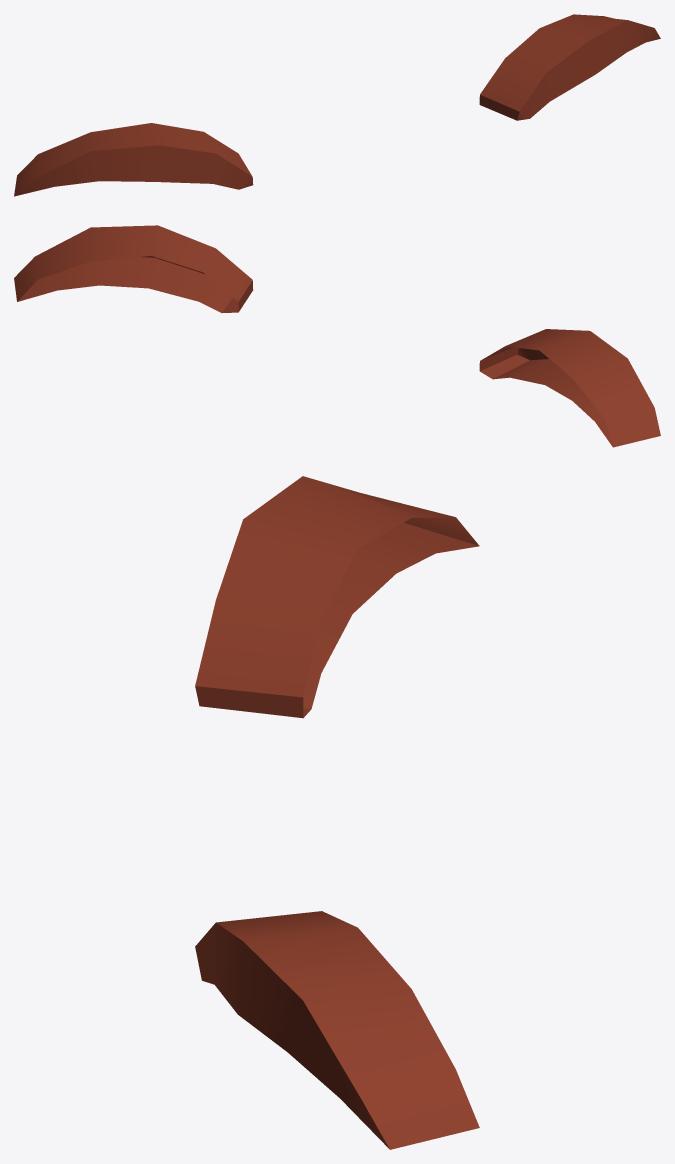
The model's file is Brow_Brown_1.fbx.
3 views of the same model, one above another, from view 1: azimuth 30°, elevation 25°; view 2: azimuth 150°, elevation 25°; view 3: azimuth 270°, elevation 25° (orthographic). The views are drawn at different scales.
Visible parts, largest first — view 1: Brow_Brown_1; view 2: Brow_Brown_1; view 3: Brow_Brown_1.
Part boxes in pixels (bbox=[...]): Brow_Brown_1: bbox=[14, 14, 660, 196]; Brow_Brown_1: bbox=[14, 225, 660, 447]; Brow_Brown_1: bbox=[195, 476, 479, 1149].
Size of the model in its own units: 33.06 by 2.71 by 6.3.
